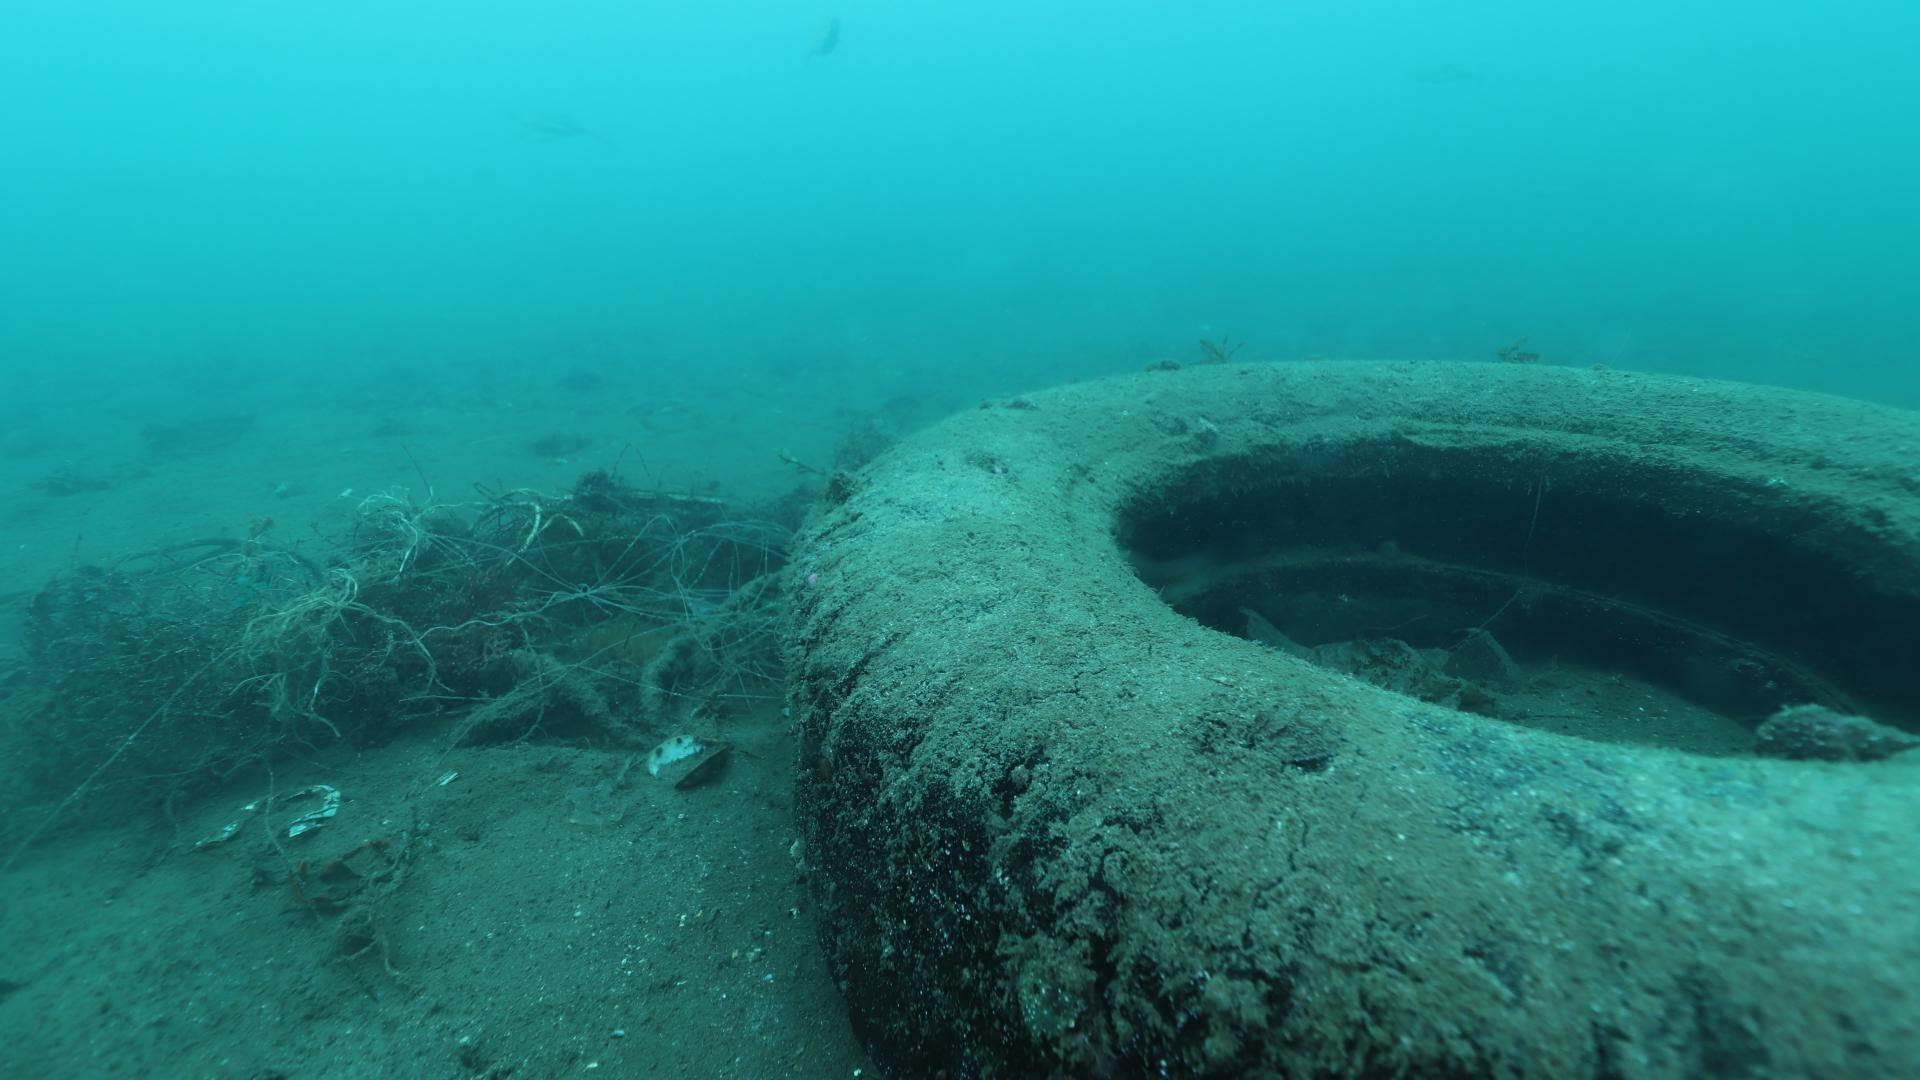tire: (775, 351, 1920, 1080)
